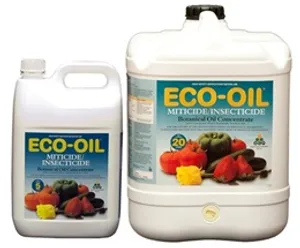Insecticide: (124, 2, 293, 242), (10, 54, 123, 239)
